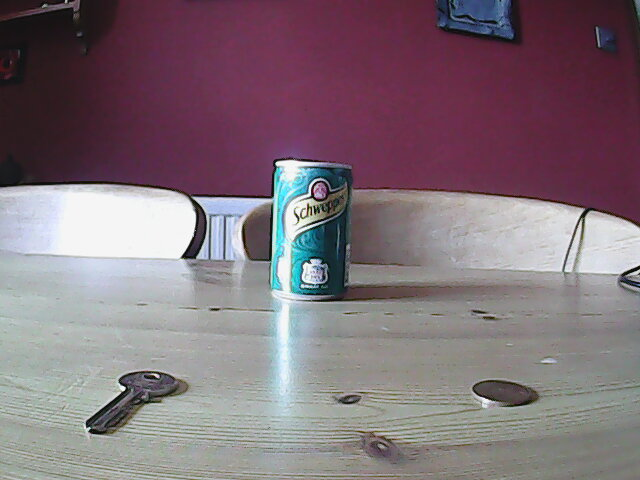Can: (267, 157, 352, 304)
Coin: (470, 377, 534, 409)
Key: (82, 367, 182, 435)
